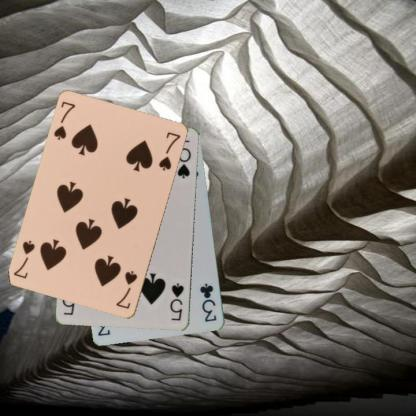3c: (197, 281, 218, 323)
5s: (167, 281, 185, 322)
7s: (113, 268, 139, 311), (51, 98, 77, 141)
